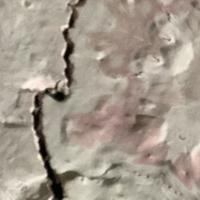crack: (20, 0, 109, 199)
